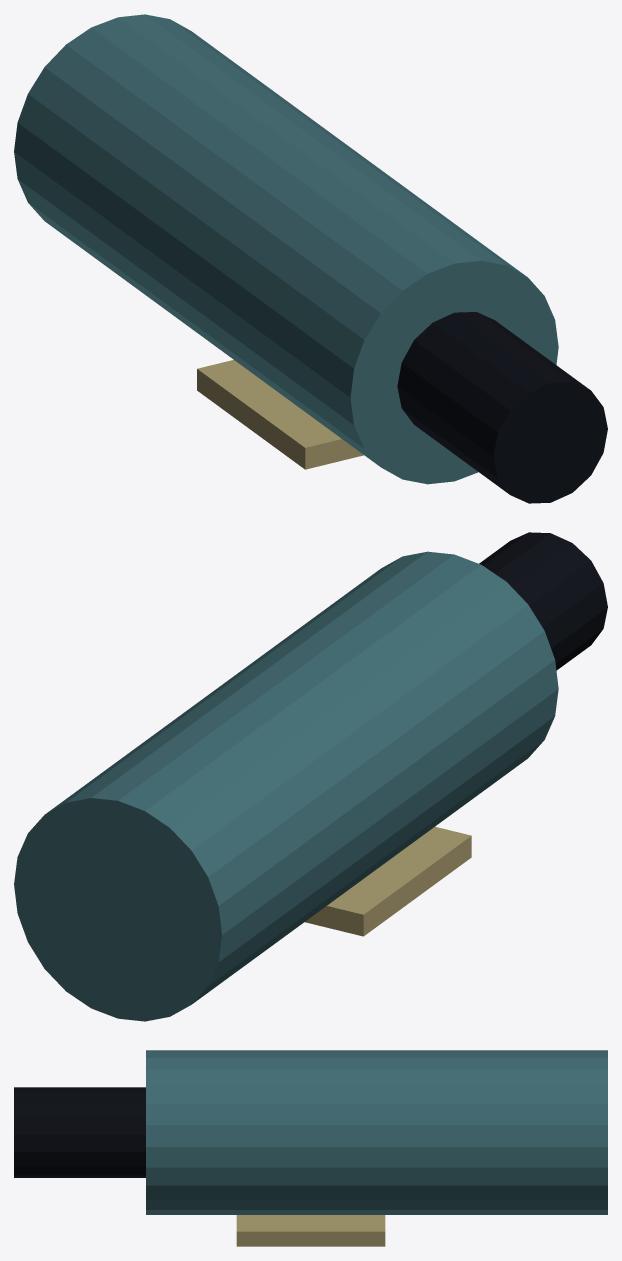
The model's file is water_bottle.obj.
3 views of the same model, one above another, from view 1: azimuth 30°, elevation 25°; view 2: azimuth 150°, elevation 25°; view 3: azimuth 270°, elevation 25° (orthographic). The views are drawn at different scales.
Parts seen in each view (by area): view 1: water_bottle; view 2: water_bottle; view 3: water_bottle.
Boxes of the visible parts, x1,y1,x2,y2 form: water_bottle: (14,14,607,503); water_bottle: (14,532,607,1021); water_bottle: (14,1050,607,1246).
Size of the model in its own units: 0.2 by 0.215 by 0.72.
